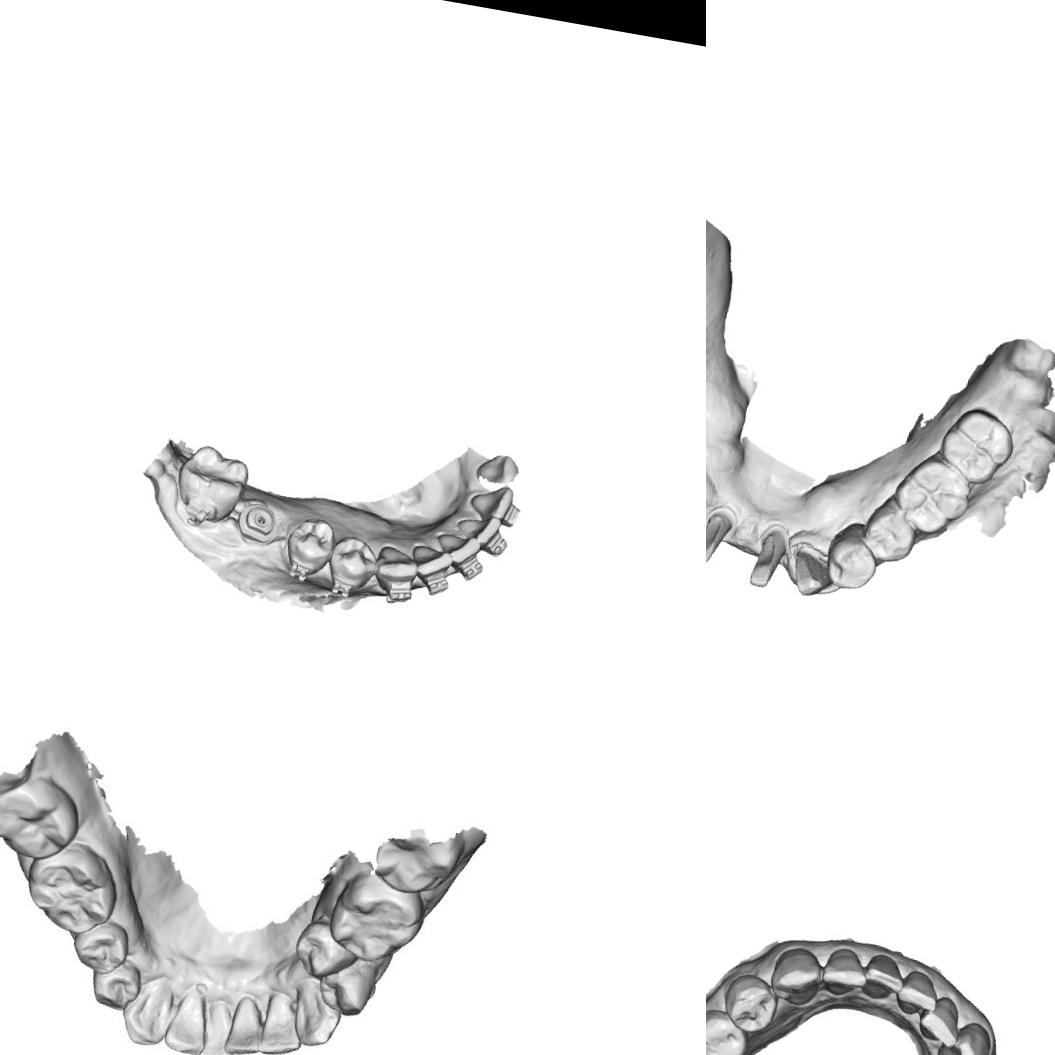canine: (765, 940, 827, 1010), (288, 978, 346, 1052), (117, 978, 176, 1050), (370, 541, 424, 595), (932, 1015, 996, 1055), (472, 449, 520, 489)
crown: (782, 541, 836, 599), (745, 524, 790, 592), (706, 502, 738, 569)
implant: (234, 499, 282, 546)
incisor: (914, 991, 972, 1051), (816, 942, 872, 1000), (162, 987, 209, 1055), (257, 990, 306, 1055), (892, 966, 944, 1020), (222, 995, 268, 1055), (196, 999, 245, 1055), (858, 950, 908, 1004), (466, 479, 518, 525), (404, 540, 454, 586), (430, 529, 483, 569), (452, 512, 504, 548)
molar: (322, 868, 432, 973), (24, 846, 123, 938), (888, 452, 976, 540), (168, 439, 254, 525), (934, 402, 1018, 490), (0, 774, 74, 866)
premolar: (718, 968, 785, 1037), (822, 520, 883, 594), (279, 512, 339, 584), (860, 501, 922, 568), (322, 528, 382, 597), (293, 922, 360, 980), (69, 916, 129, 978), (316, 962, 371, 1015), (90, 960, 142, 1012), (706, 1003, 753, 1055)
